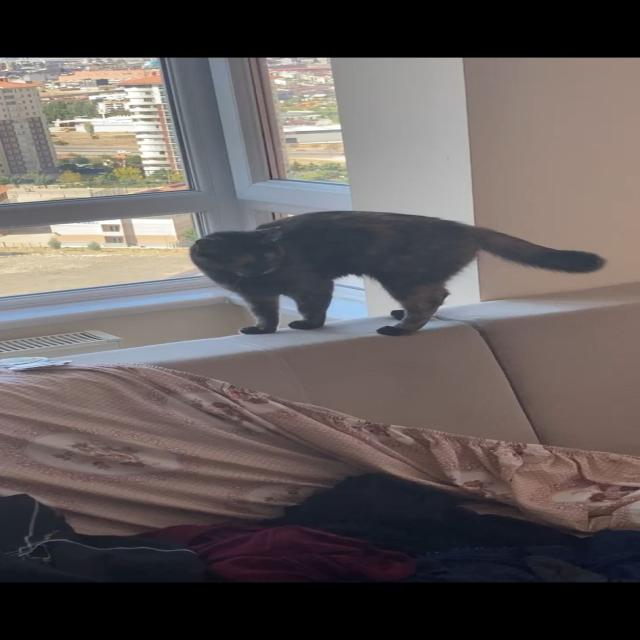authorized: (188, 210, 606, 336)
